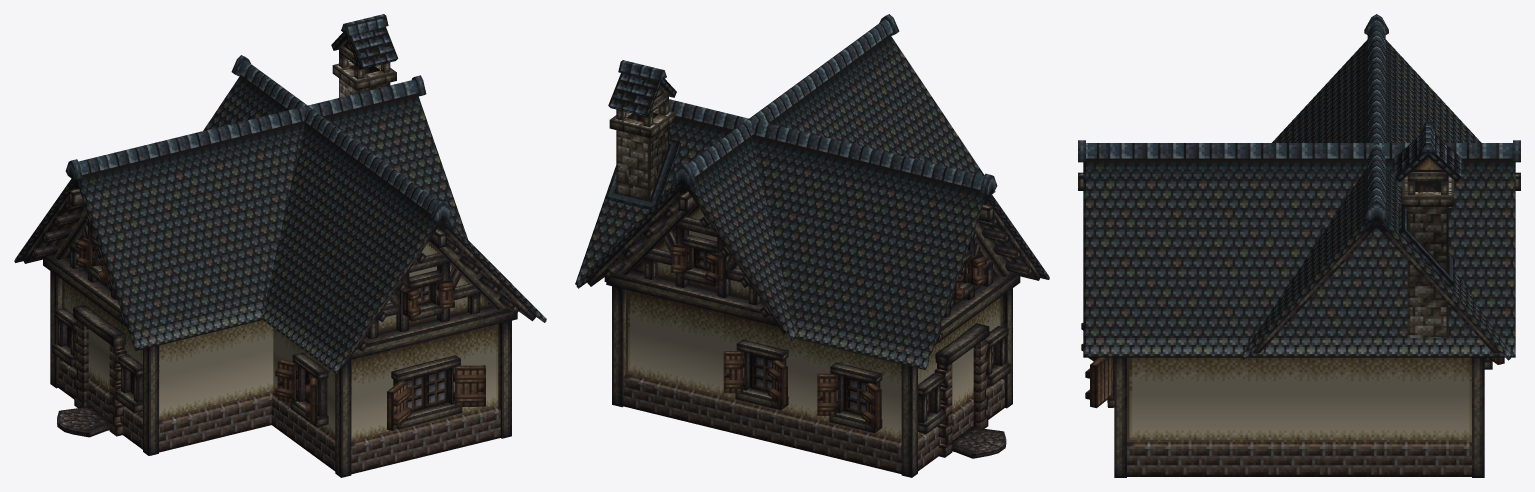
Rendered from EnvBdgMD_Mount_A_Outdoor_House_F.FBX.
3 views of the same model, side by side, from view 1: azimuth 30°, elevation 25°; view 2: azimuth 150°, elevation 25°; view 3: azimuth 270°, elevation 25° (orthographic). The views are drawn at different scales.
Visible parts, largest first — view 1: EnvBdgMD_Mount_A_Outdoor_House_F; view 2: EnvBdgMD_Mount_A_Outdoor_House_F; view 3: EnvBdgMD_Mount_A_Outdoor_House_F.
Boxes of the visible parts, x1,y1,x2,y2 form: EnvBdgMD_Mount_A_Outdoor_House_F: (14,14,546,477); EnvBdgMD_Mount_A_Outdoor_House_F: (575,14,1049,477); EnvBdgMD_Mount_A_Outdoor_House_F: (1078,14,1520,477).
Size of the model in its own units: 885 by 735 by 860.
1 material, 1 textured.
